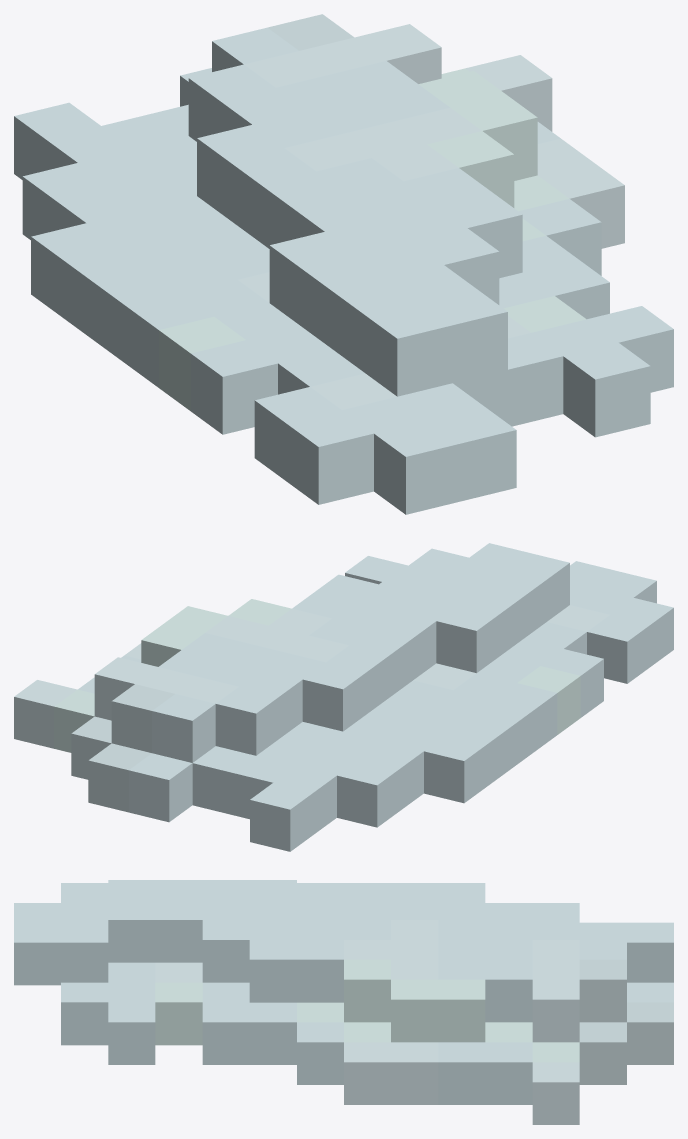
Rendered from grass_patches-15.obj.
3 renders of one model, top to bottom at view 1: azimuth 30°, elevation 25°; view 2: azimuth 150°, elevation 25°; view 3: azimuth 270°, elevation 25°, orthographic. The views are drawn at different scales.
Bounding box in the file's own units: 1 × 0.2 × 1.4.
1 material, 1 textured.
